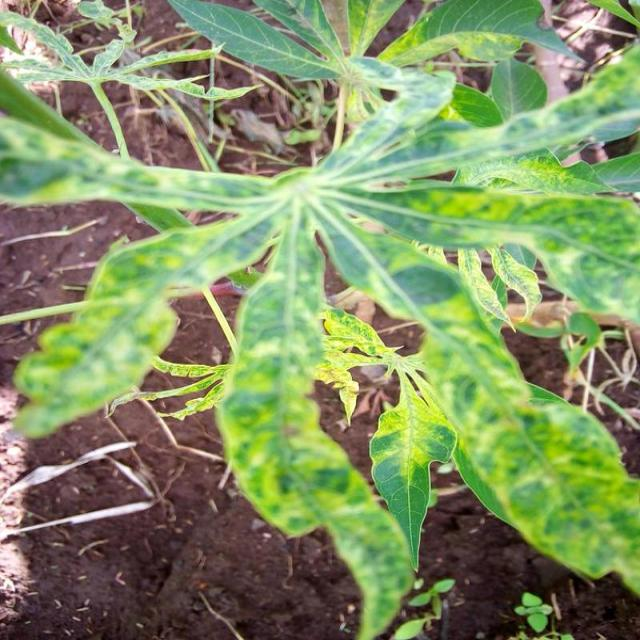cassava leaf: (2, 4, 639, 636)
